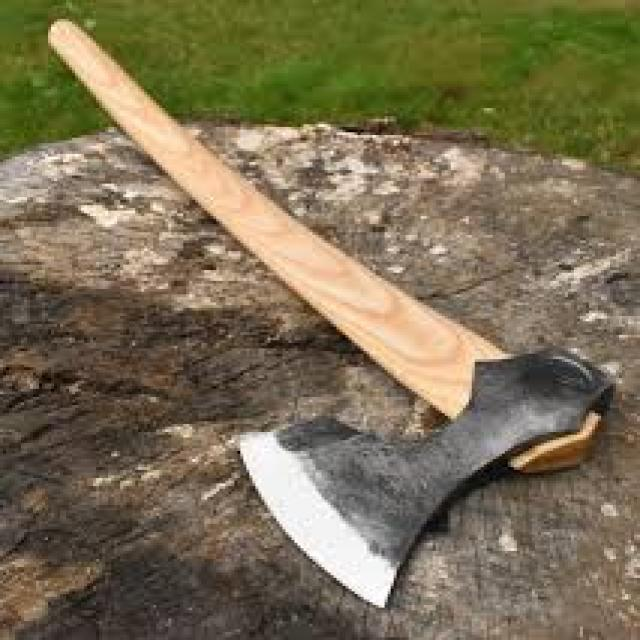Gun: (35, 3, 612, 609)
